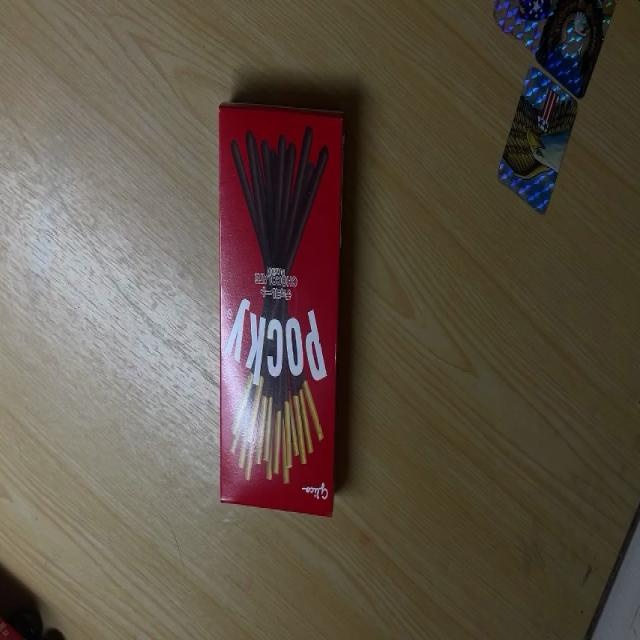Pocky: (216, 104, 347, 516)
